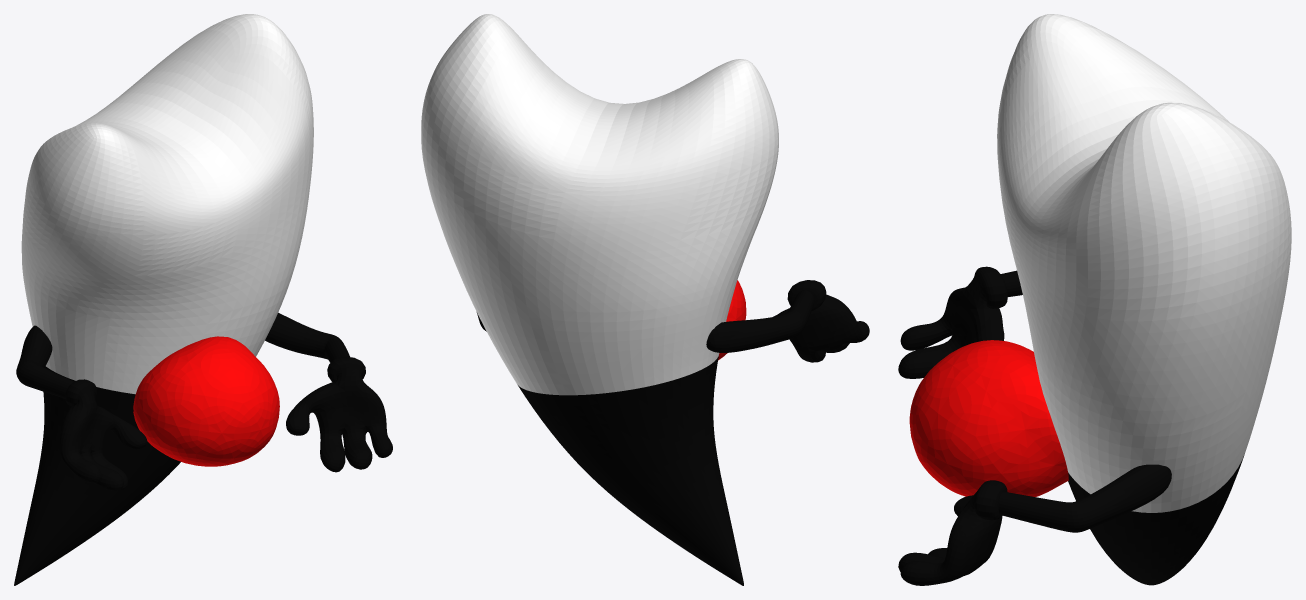
Rendered from java-dukezombie012.obj.
3 views of the same model, side by side, from view 1: azimuth 30°, elevation 25°; view 2: azimuth 150°, elevation 25°; view 3: azimuth 270°, elevation 25° (orthographic). The views are drawn at different scales.
Visible parts, largest first — view 1: javadude, javadude_hands, javadude_nase; view 2: javadude, javadude_hands, javadude_nase; view 3: javadude, javadude_nase, javadude_hands.
Boxes of the visible parts, left/top/right/bottom form: javadude: left=14, top=14, right=313, bottom=585; javadude_hands: left=16, top=312, right=392, bottom=490; javadude_nase: left=133, top=336, right=279, bottom=466; javadude: left=421, top=14, right=778, bottom=585; javadude_hands: left=476, top=280, right=869, bottom=362; javadude_nase: left=718, top=280, right=746, bottom=360; javadude: left=997, top=14, right=1291, bottom=585; javadude_nase: left=909, top=340, right=1068, bottom=496; javadude_hands: left=898, top=266, right=1171, bottom=585.
Size of the model in its own units: 2.62 by 3.8 by 2.16.
